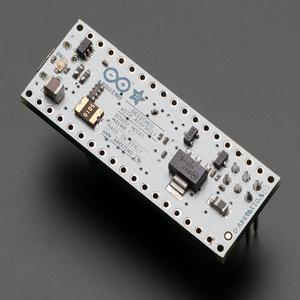duino: (15, 6, 290, 280)
